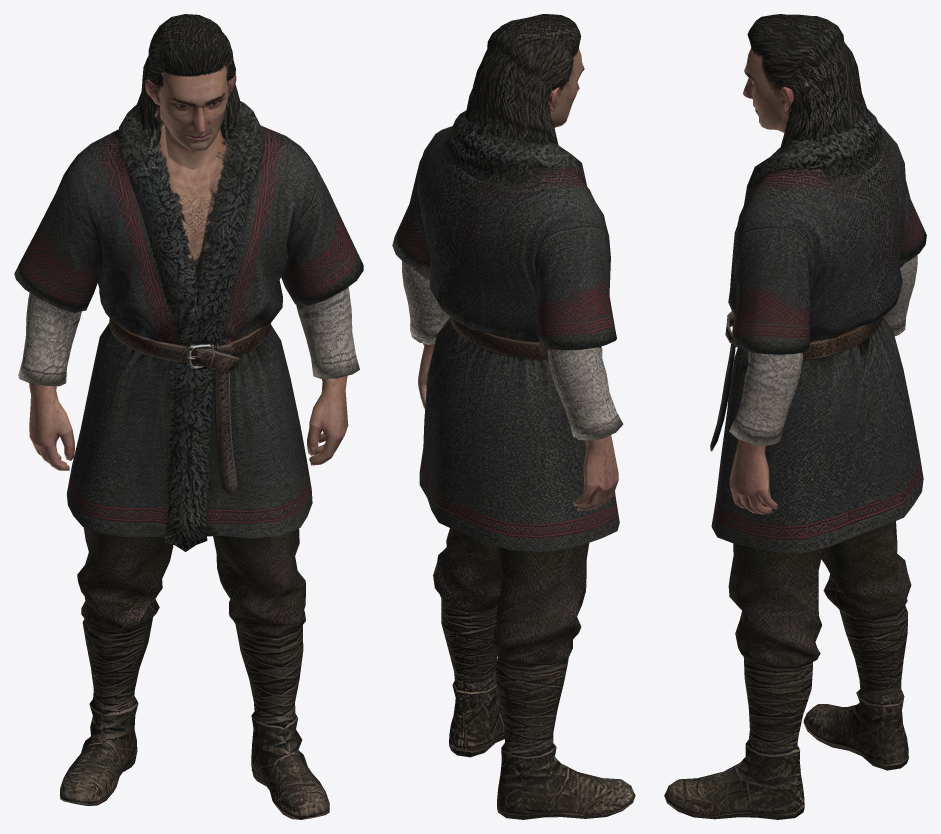
The model's file is medieval-warrior.glb.
3 views of the same model, side by side, from view 1: azimuth 30°, elevation 25°; view 2: azimuth 150°, elevation 25°; view 3: azimuth 270°, elevation 25° (orthographic).
Parts seen in each view (by area): view 1: tripo_part_11, tripo_part_14, tripo_part_2, tripo_part_6, tripo_part_15, tripo_part_4, tripo_part_5, tripo_part_26, tripo_part_1, tripo_part_10, tripo_part_0, tripo_part_7 (+11 smaller); view 2: tripo_part_14, tripo_part_6, tripo_part_5, tripo_part_10, tripo_part_0, tripo_part_2, tripo_part_4, tripo_part_16, tripo_part_12, tripo_part_1, tripo_part_8, tripo_part_15 (+9 smaller); view 3: tripo_part_11, tripo_part_15, tripo_part_14, tripo_part_4, tripo_part_7, tripo_part_1, tripo_part_5, tripo_part_2, tripo_part_0, tripo_part_16, tripo_part_13, tripo_part_8 (+8 smaller).
Part boxes in pixels (<box>): tripo_part_11: <box>164,325,312,551</box>; tripo_part_14: <box>66,323,175,537</box>; tripo_part_2: <box>128,61,263,342</box>; tripo_part_6: <box>77,135,181,344</box>; tripo_part_15: <box>212,125,311,344</box>; tripo_part_4: <box>235,624,326,814</box>; tripo_part_5: <box>63,617,152,798</box>; tripo_part_26: <box>118,109,197,343</box>; tripo_part_1: <box>213,528,305,643</box>; tripo_part_10: <box>14,155,102,312</box>; tripo_part_0: <box>77,527,173,631</box>; tripo_part_7: <box>281,147,363,305</box>; tripo_part_14: <box>420,340,619,551</box>; tripo_part_6: <box>437,166,605,341</box>; tripo_part_5: <box>496,657,633,816</box>; tripo_part_10: <box>534,205,616,350</box>; tripo_part_0: <box>492,543,589,664</box>; tripo_part_2: <box>437,43,584,261</box>; tripo_part_4: <box>441,599,504,753</box>; tripo_part_16: <box>465,50,555,142</box>; tripo_part_12: <box>547,347,623,440</box>; tripo_part_1: <box>433,528,501,611</box>; tripo_part_8: <box>484,14,573,81</box>; tripo_part_15: <box>417,126,453,300</box>; tripo_part_11: <box>711,345,865,552</box>; tripo_part_15: <box>728,168,888,341</box>; tripo_part_14: <box>832,316,923,545</box>; tripo_part_4: <box>668,657,812,816</box>; tripo_part_7: <box>732,208,820,354</box>; tripo_part_1: <box>728,543,824,668</box>; tripo_part_5: <box>807,603,908,766</box>; tripo_part_2: <box>737,48,893,253</box>; tripo_part_0: <box>821,521,911,620</box>; tripo_part_16: <box>781,41,871,145</box>; tripo_part_13: <box>729,351,802,445</box>; tripo_part_8: <box>747,14,844,67</box>.
Bounding box in the file's own units: 0.3835 × 1 × 0.3141.
46 materials, 46 textured.
